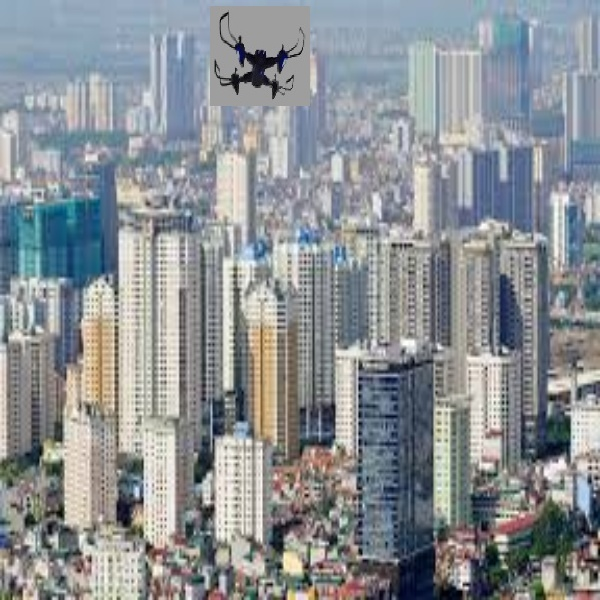drone: (210, 7, 313, 99)
